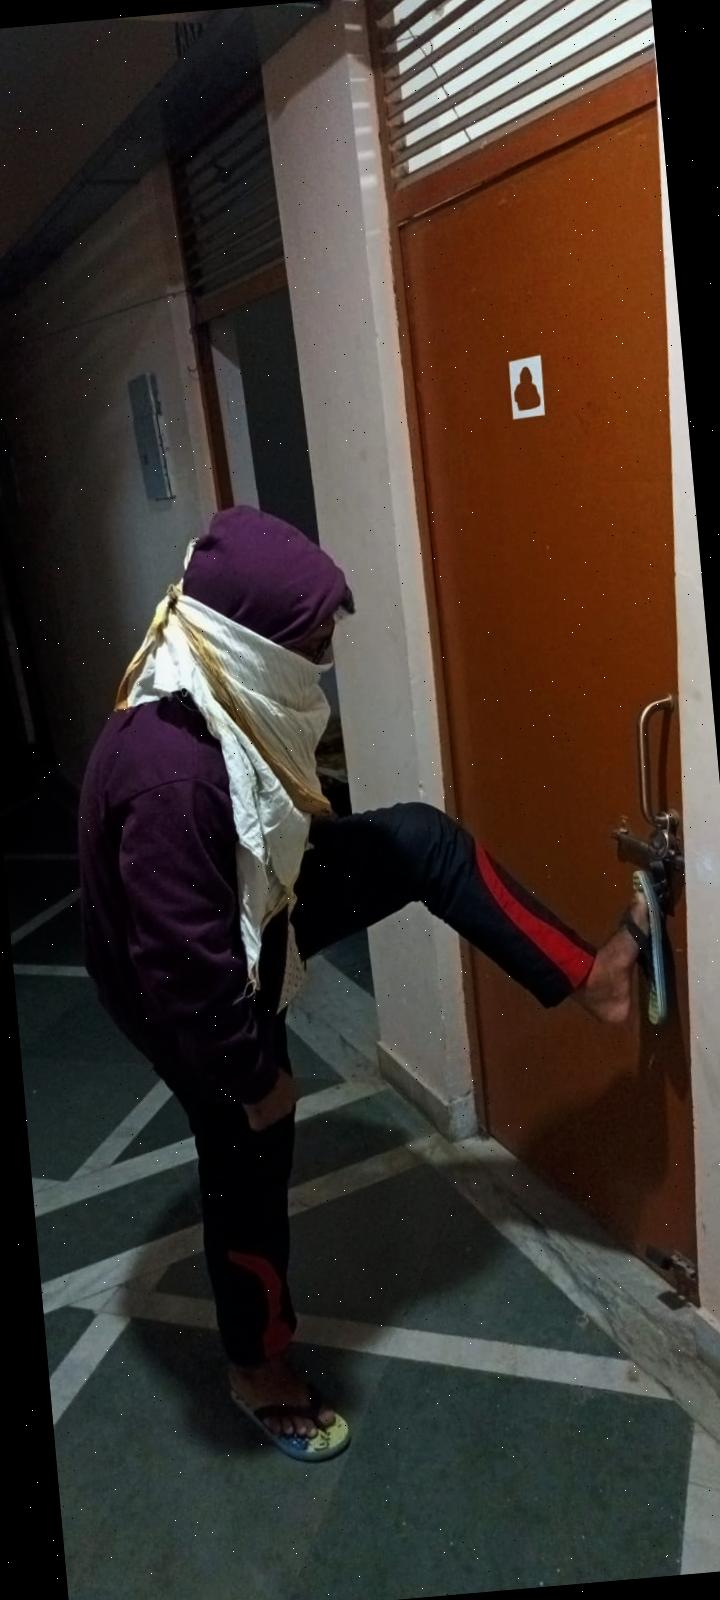suspicion: (0, 465, 714, 1518), (0, 458, 509, 1512)
